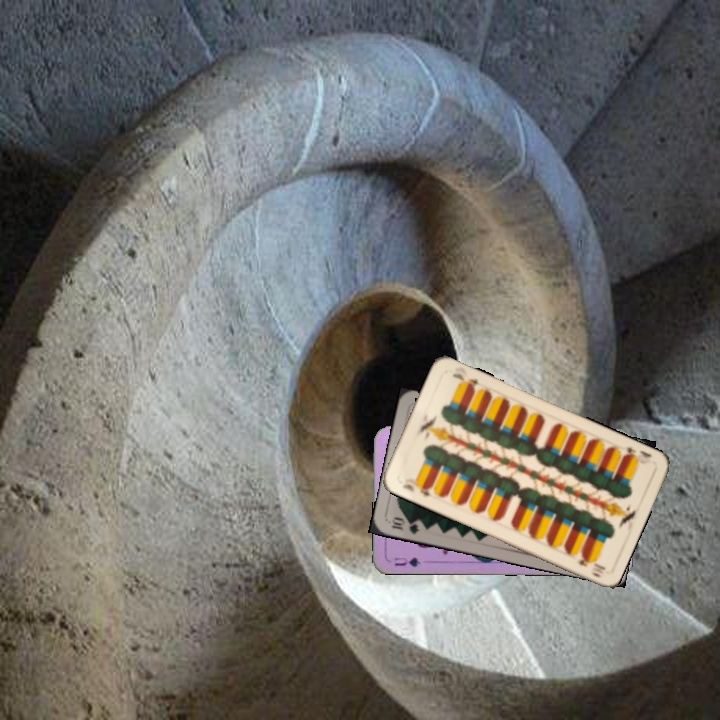E10: (619, 443, 654, 466), (398, 480, 434, 499)
G10: (387, 513, 422, 537)
GU: (391, 553, 423, 570)
